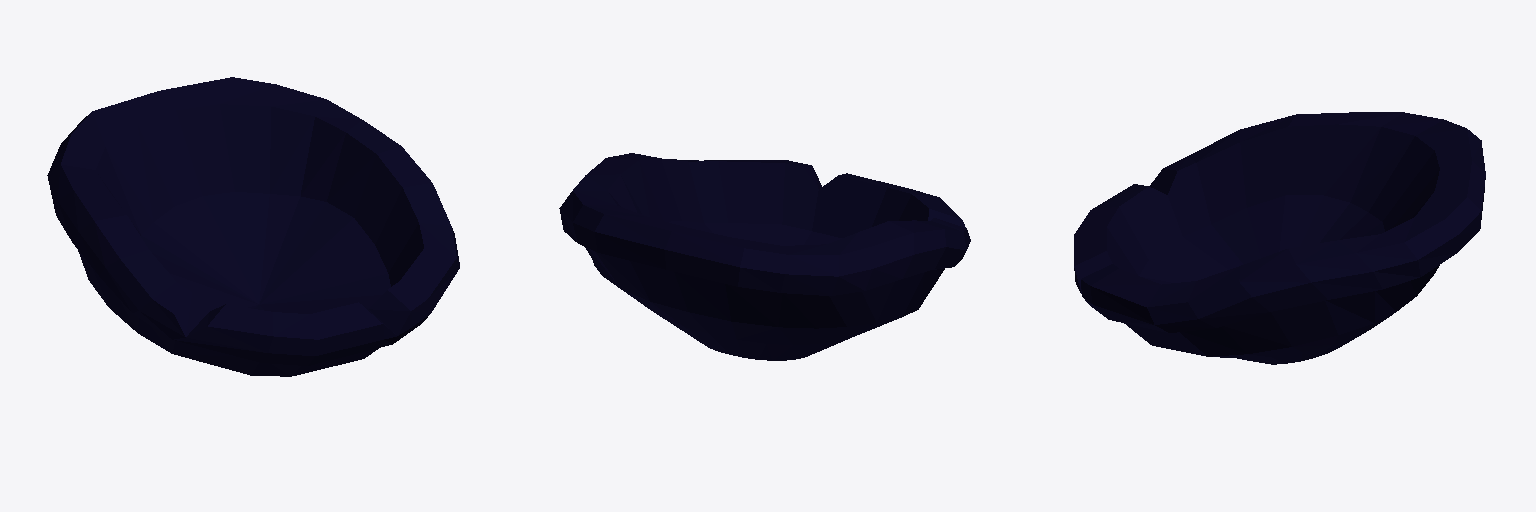
The model's file is skeleton_mage_cowl.obj.
The picture shows the model from 3 angles: view 1: azimuth 30°, elevation 25°; view 2: azimuth 150°, elevation 25°; view 3: azimuth 270°, elevation 25°; orthographic projection.
Parts seen in each view (by area): view 1: skeleton_mage_cowl_Cube.7747; view 2: skeleton_mage_cowl_Cube.7747; view 3: skeleton_mage_cowl_Cube.7747.
Boxes of the visible parts, x1=… form: skeleton_mage_cowl_Cube.7747: x1=47, y1=77, x2=459, y2=376; skeleton_mage_cowl_Cube.7747: x1=559, y1=153, x2=970, y2=360; skeleton_mage_cowl_Cube.7747: x1=1074, y1=112, x2=1485, y2=364.
Bounding box in the file's own units: 0.9334 × 0.5151 × 1.01.